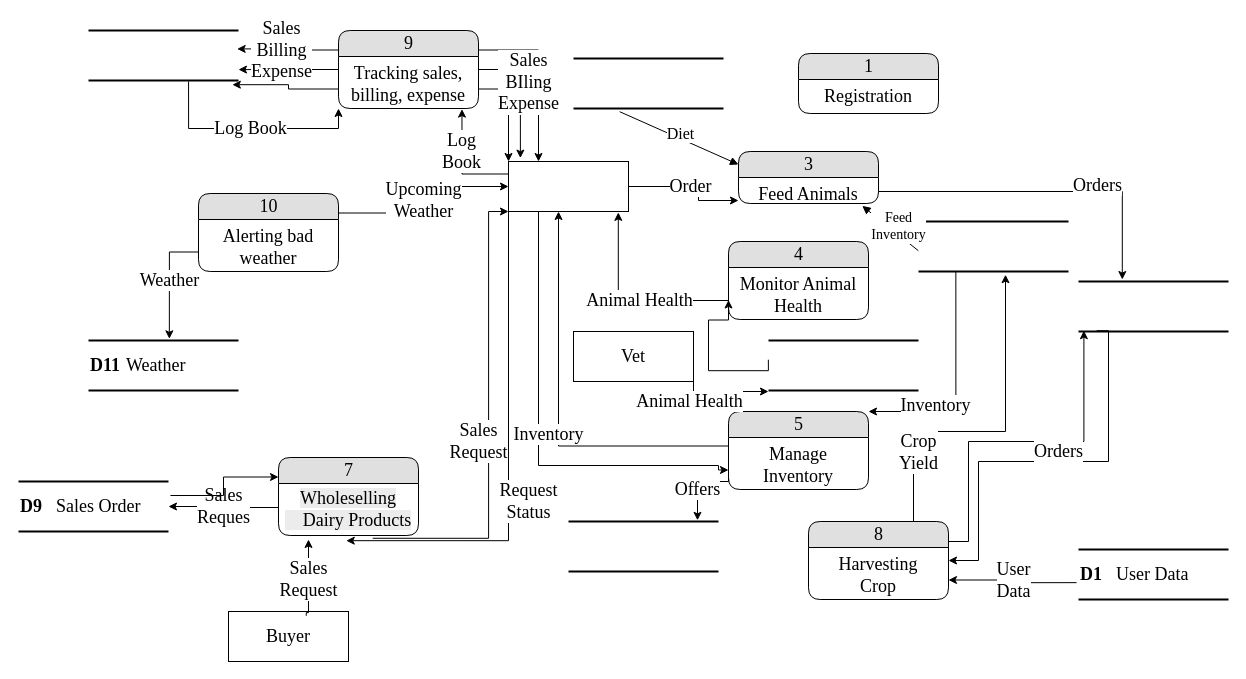
Some shapes in this 1246 by 679 pixel diagram are drawn without their labels. Each missing label, with the centre of its shape:
"Admin" belongs at [568,186].
"D10 Accounts" belongs at [163,55].
"D3 Feed" belongs at [648,83].
"D4 Inventory" belongs at [993,246].
"D5 All orders" belongs at [1153,306].
"D6 Animal Health" belongs at [843,365].
"D7 Offers" belongs at [643,546].
